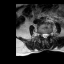CCS_normal: (44, 31, 46, 40)
LFS_normal: (48, 30, 50, 37)
LLS_normal: (46, 31, 48, 39)
RFS_normal: (40, 31, 42, 38)
RLS_normal: (42, 31, 44, 39)
